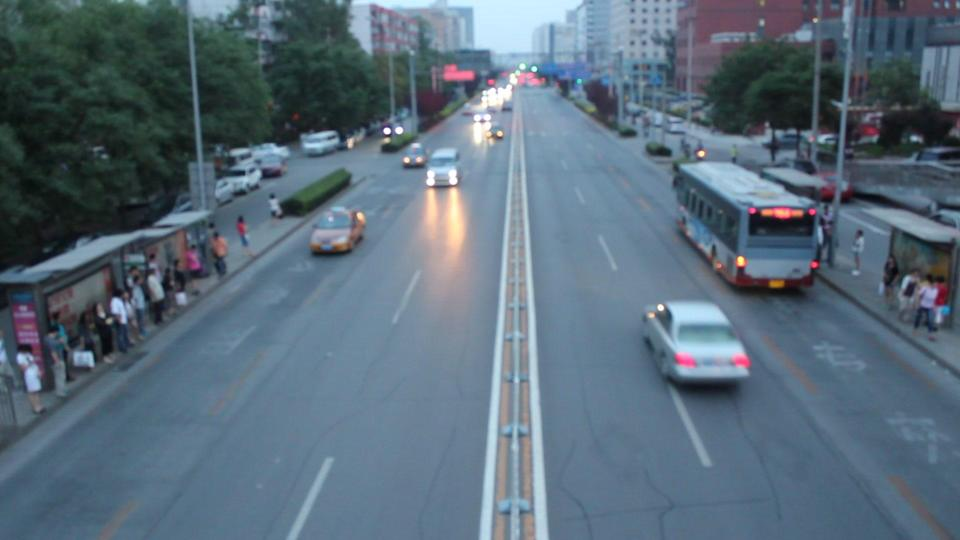bus: (672, 160, 821, 291)
car: (640, 300, 752, 389), (308, 206, 367, 255), (761, 167, 831, 203), (218, 161, 263, 194), (425, 148, 461, 186), (251, 144, 289, 178), (301, 129, 342, 158), (215, 177, 250, 200), (401, 143, 429, 169), (427, 147, 459, 168)
person: (910, 277, 946, 337), (18, 344, 47, 410), (49, 306, 69, 393), (141, 242, 165, 313), (87, 295, 109, 364), (110, 281, 129, 359), (898, 268, 924, 312), (183, 232, 203, 287), (131, 261, 145, 335), (208, 233, 229, 276), (854, 225, 865, 284), (168, 256, 179, 313), (237, 216, 252, 249), (268, 193, 284, 220)
